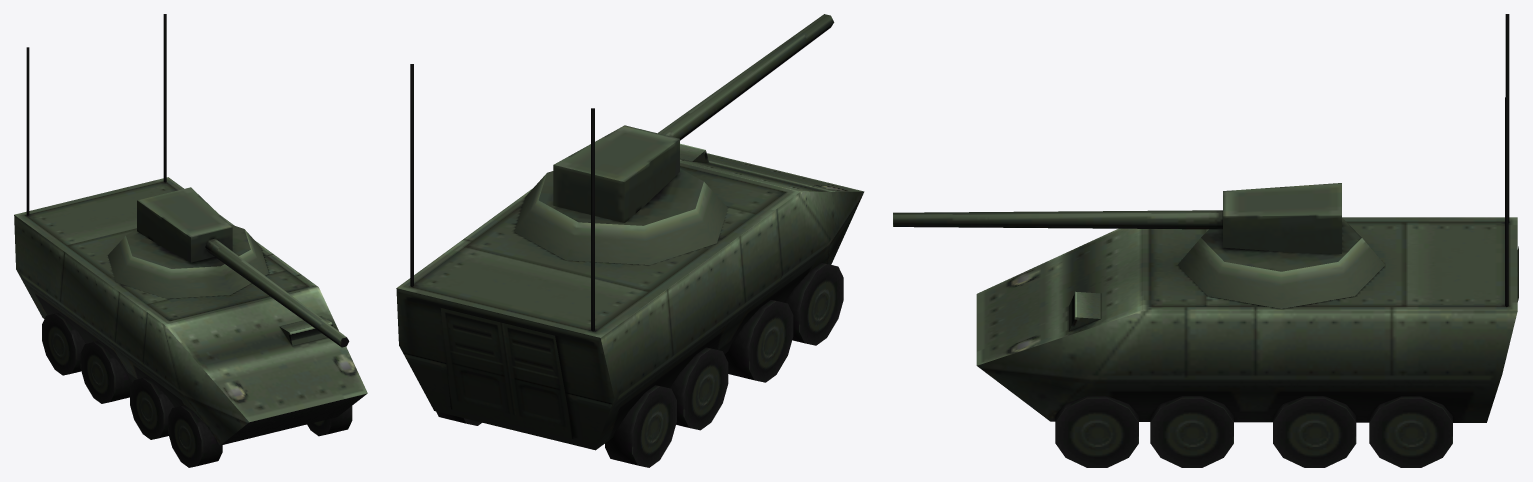
File: Stryker_MGS.DAE
The picture shows the model from 3 angles, left to right: view 1: azimuth 30°, elevation 25°; view 2: azimuth 150°, elevation 25°; view 3: azimuth 270°, elevation 25°; orthographic projection. The views are drawn at different scales.
Parts seen in each view (by area): view 1: _1175_Stryker_MGS; view 2: _1175_Stryker_MGS; view 3: _1175_Stryker_MGS.
Part boxes in pixels (x1=…): _1175_Stryker_MGS: x1=14, y1=14, x2=367, y2=467; _1175_Stryker_MGS: x1=396, y1=14, x2=864, y2=467; _1175_Stryker_MGS: x1=893, y1=14, x2=1518, y2=467.
Bounding box in the file's own units: 106 × 184 × 284.
Materials: 1 (1 with a texture image).
